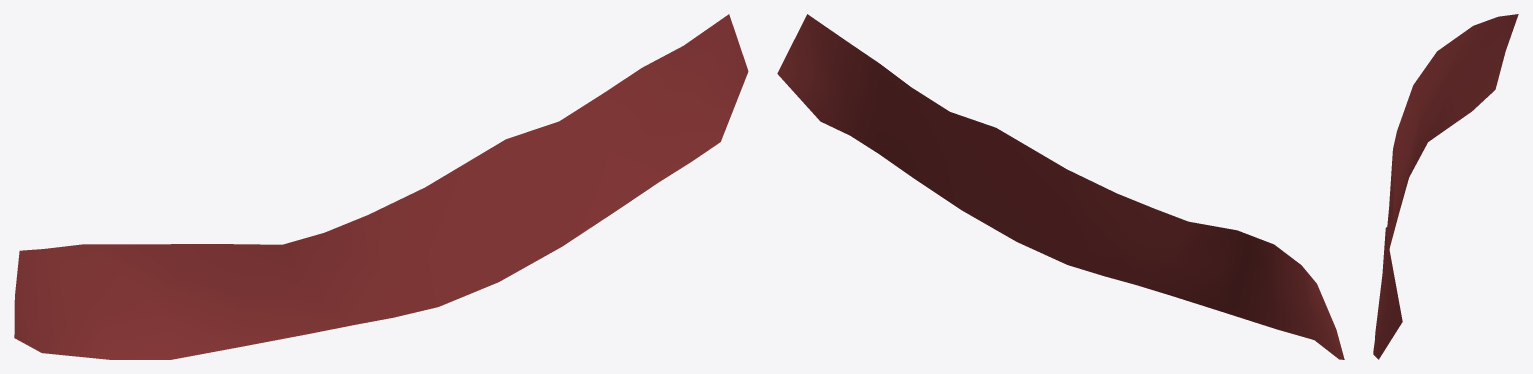
File: superficial-transverse-metacarpal-ligament-r.glb
3 renders of one model, left to right at view 1: azimuth 30°, elevation 25°; view 2: azimuth 150°, elevation 25°; view 3: azimuth 270°, elevation 25°, orthographic. The views are drawn at different scales.
Visible parts, largest first — view 1: Superficial transverse metacarpal ligament.r; view 2: Superficial transverse metacarpal ligament.r; view 3: Superficial transverse metacarpal ligament.r.
Boxes of the visible parts, x1,y1,x2,y2 form: Superficial transverse metacarpal ligament.r: (14,14,748,359); Superficial transverse metacarpal ligament.r: (777,14,1344,359); Superficial transverse metacarpal ligament.r: (1373,14,1518,359).
Bounding box in the file's own units: 0.0743 × 0.0226 × 0.0122.
